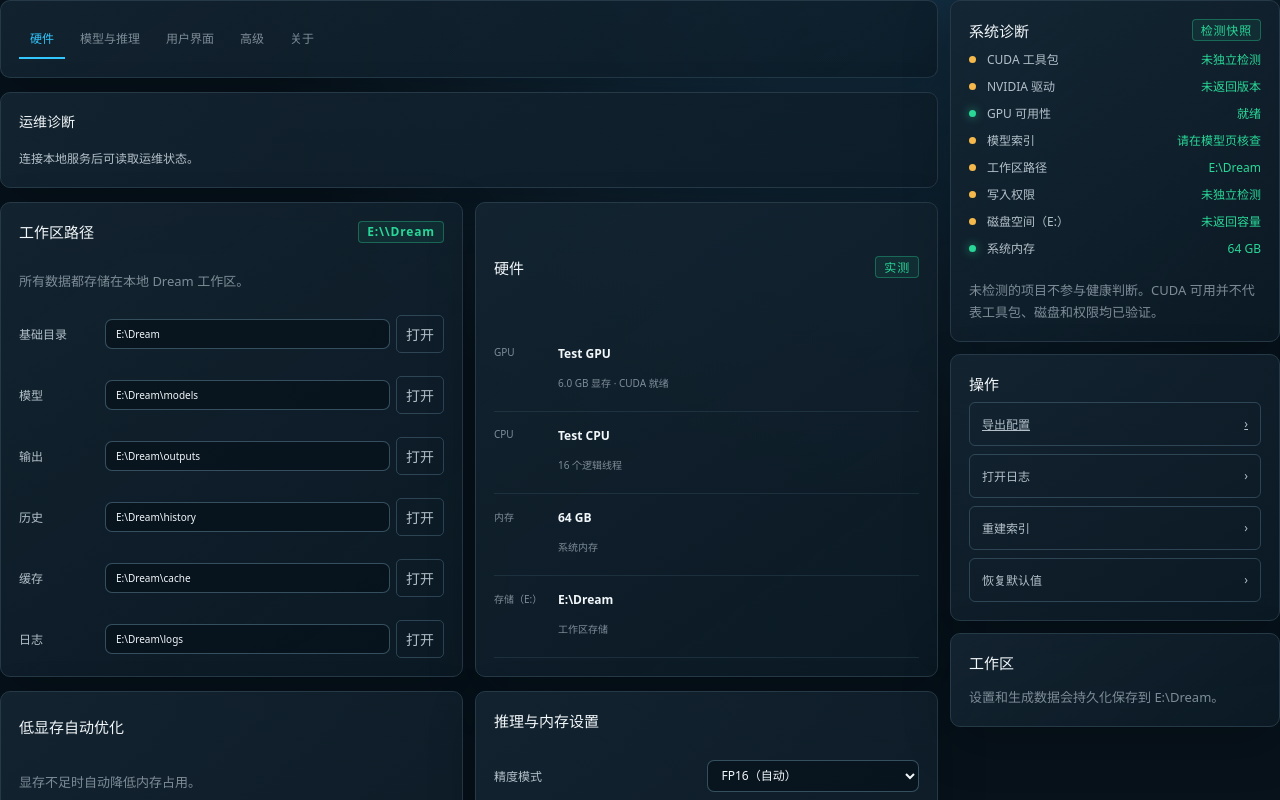
Settings page › switches between real tab panels
Click the tab "模型与推理" at (110, 39), box [69,19,151,59]
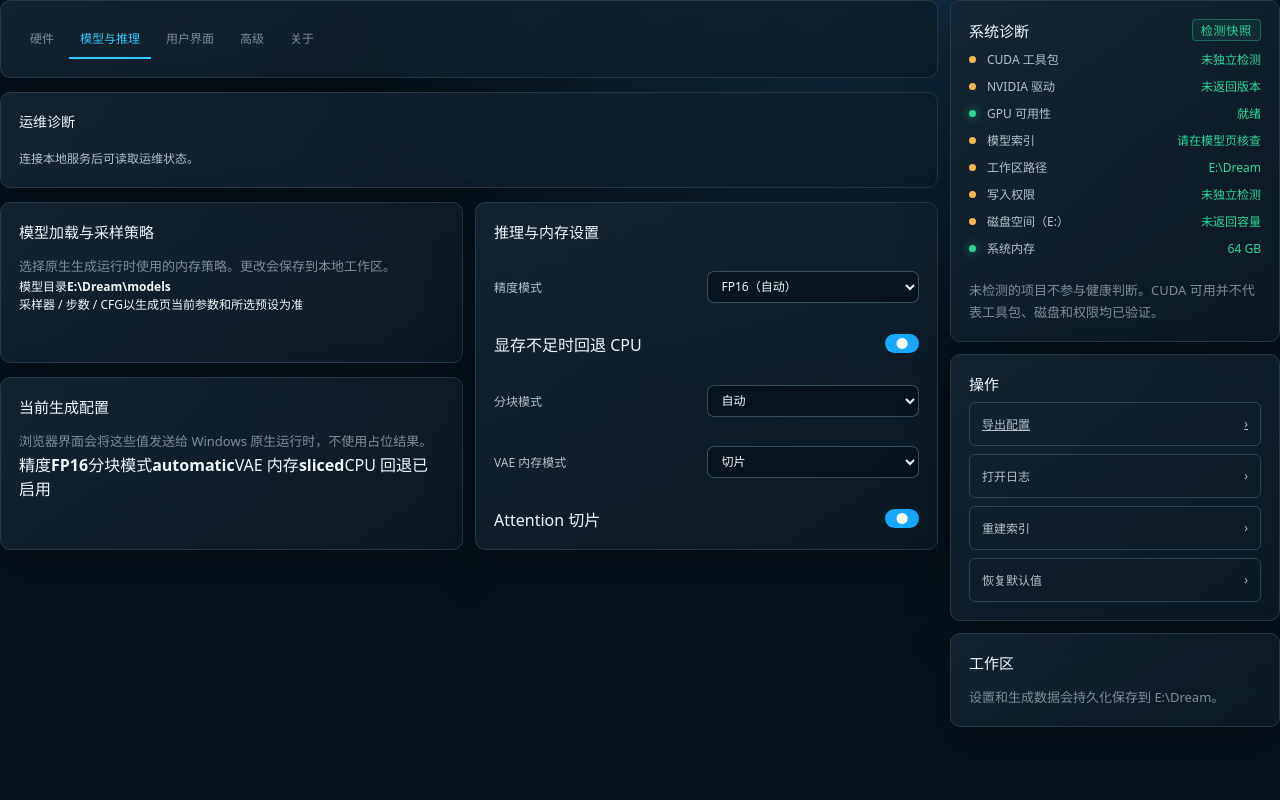
Expected: the panel shows "推理与内存设置", [494,222,599,242]
Expected: the panel shows "模型加载与采样策略", [19,222,154,242]
Click the tab "关于" at (302, 39), box [279,19,325,59]
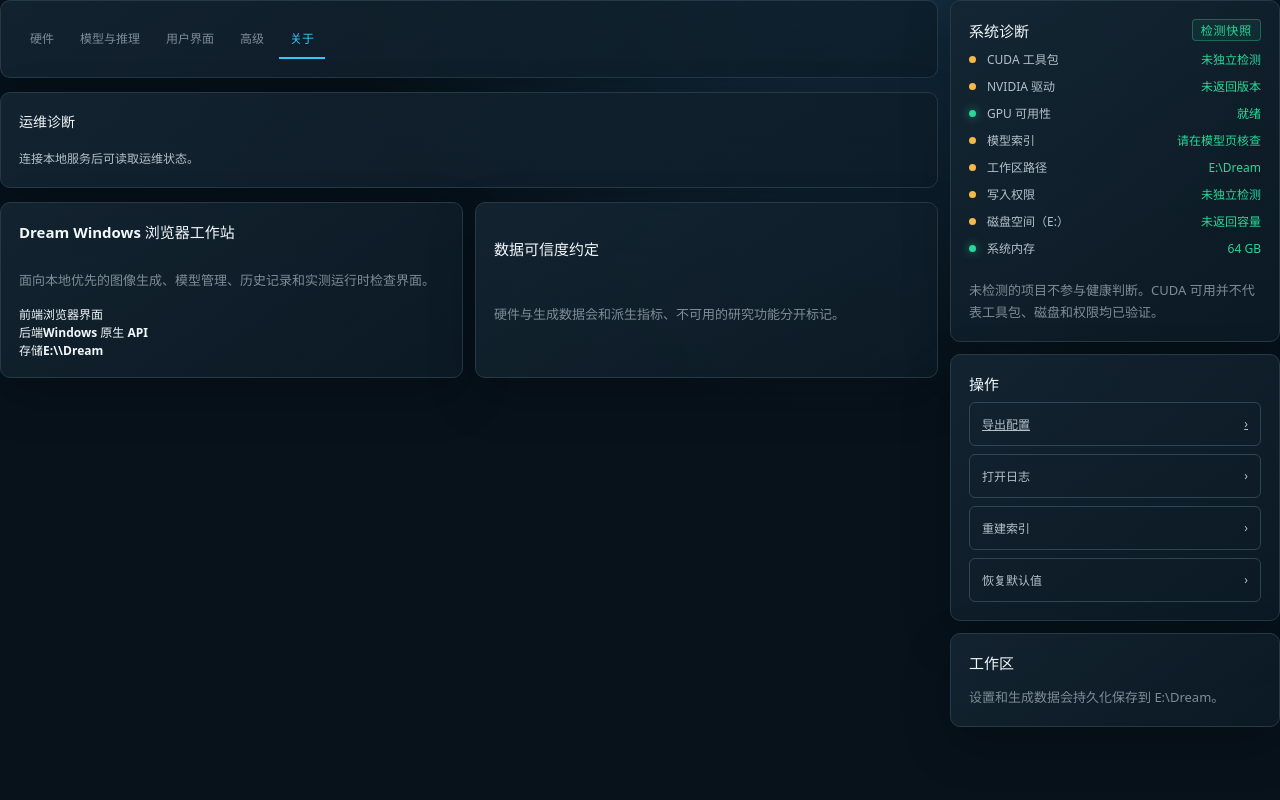
Expected: the panel shows "Dream Windows 浏览器工作站", [19,222,235,242]
